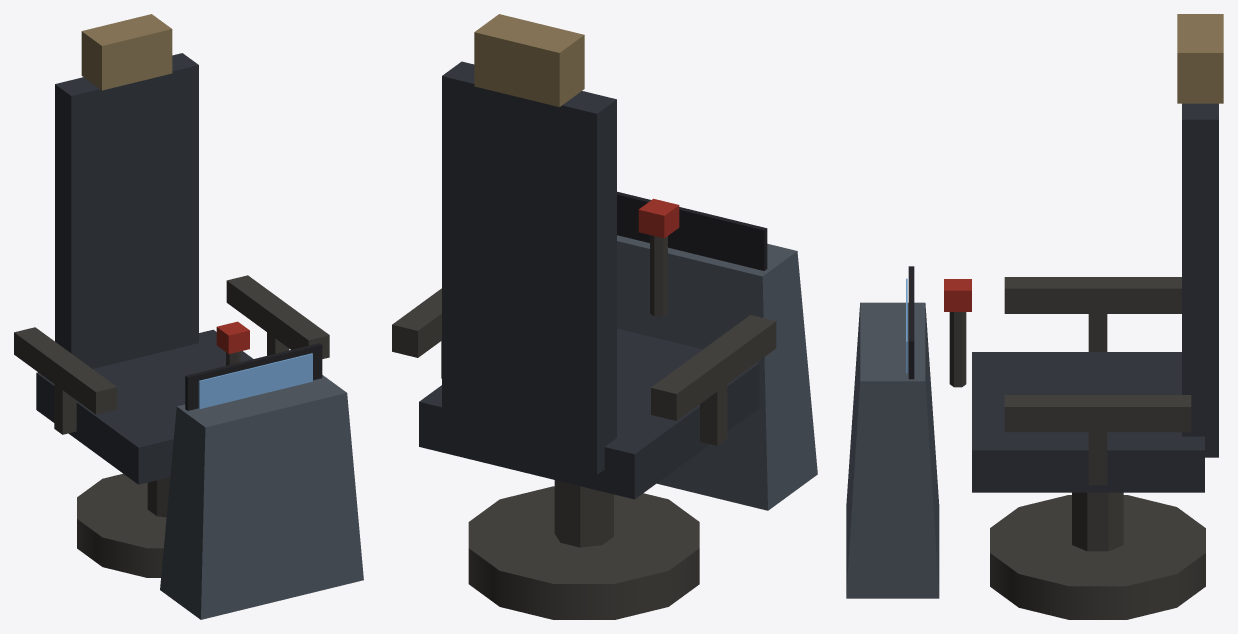
The model's file is separatist_seat.glb.
3 views of the same model, side by side, from view 1: azimuth 30°, elevation 25°; view 2: azimuth 150°, elevation 25°; view 3: azimuth 270°, elevation 25° (orthographic). The views are drawn at different scales.
Visible parts, largest first — view 1: separatist_seat; view 2: separatist_seat; view 3: separatist_seat.
Boxes of the visible parts, x1=… form: separatist_seat: x1=14, y1=14, x2=363, y2=619; separatist_seat: x1=392, y1=14, x2=817, y2=619; separatist_seat: x1=846, y1=14, x2=1223, y2=619.
Bounding box in the file's own units: 0.66 × 1.28 × 0.81.
